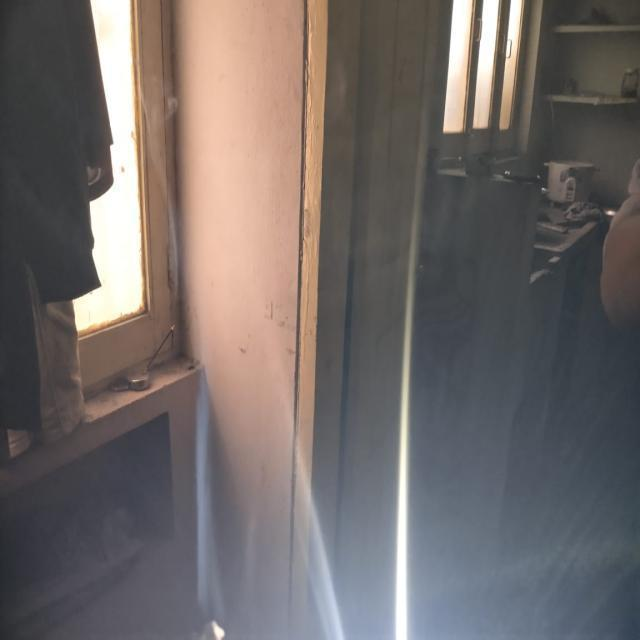fire: (186, 376, 238, 606)
